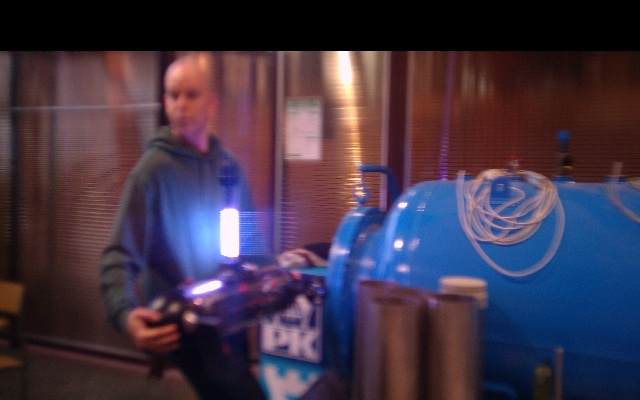white: (221, 207, 239, 259)
